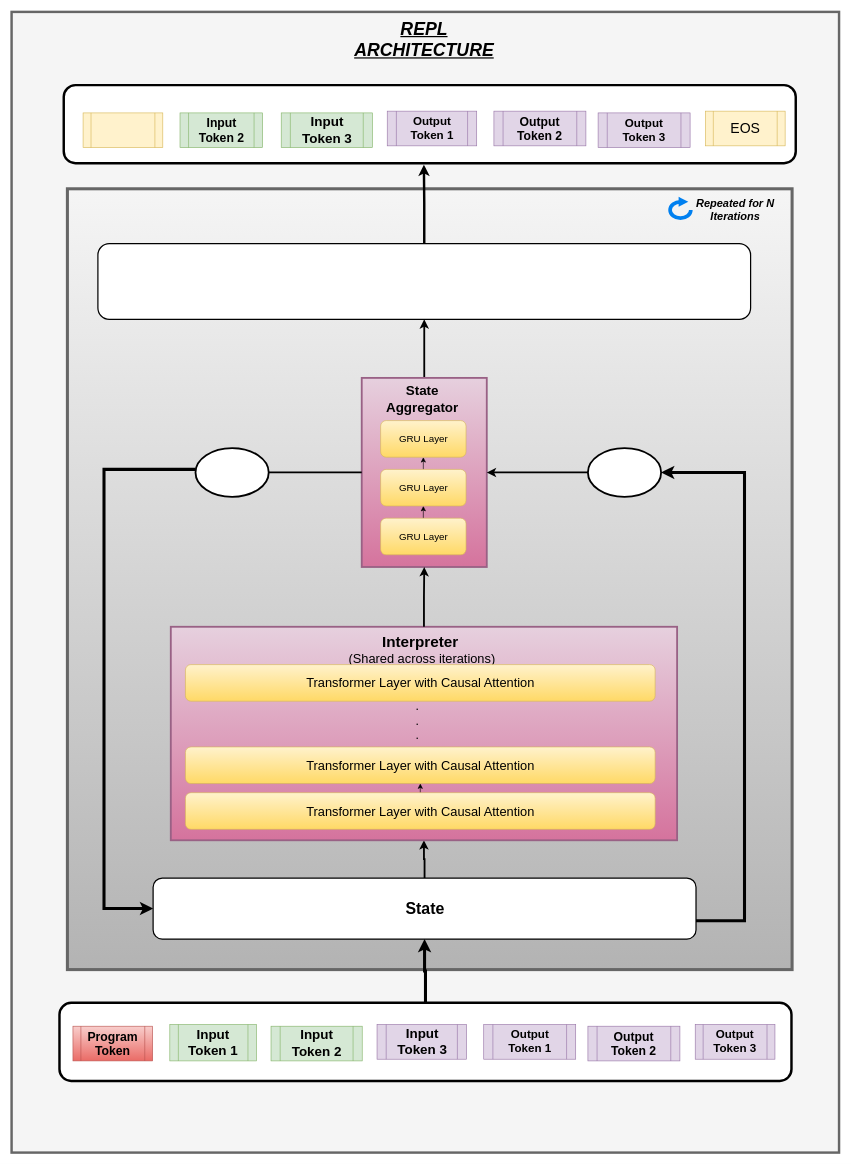
Some shapes in this 851 by 1164 pixel diagram are drawn without their labels. Here are the shapes that lost their labels. From the top down, the box of each, then its label:
(97, 243, 751, 320): Output Logits at Iteration t
(194, 447, 269, 497): State t +1
(587, 447, 662, 497): State t
